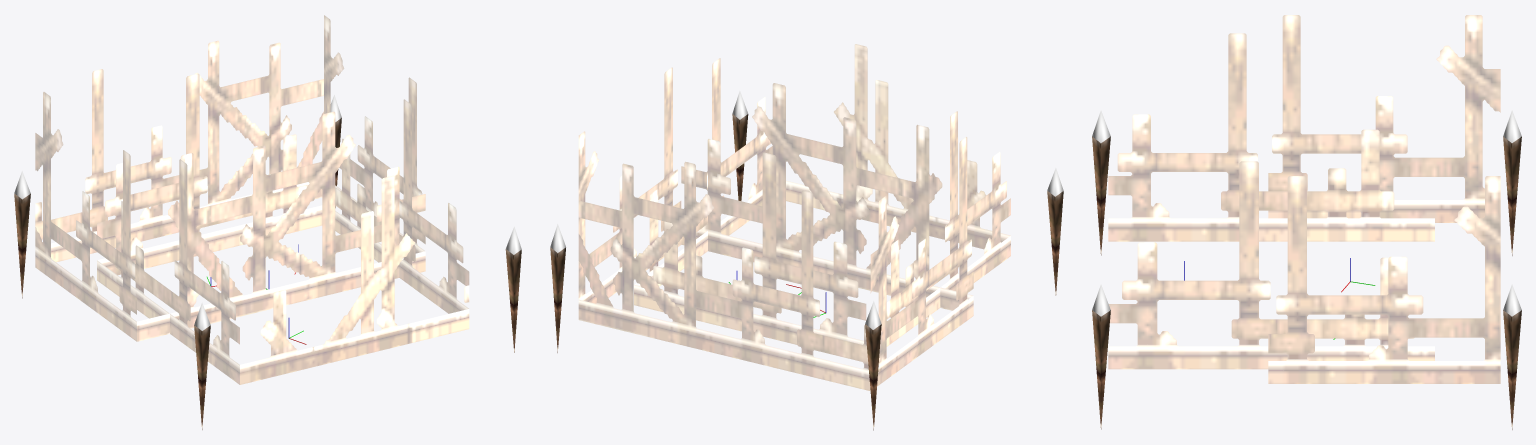
Rendered from greek-house-construction-b.glb.
3 views of the same model, side by side, from view 1: azimuth 30°, elevation 25°; view 2: azimuth 150°, elevation 25°; view 3: azimuth 270°, elevation 25° (orthographic). The views are drawn at different scales.
Visible parts, largest first — view 1: building construction small bModel; view 2: building construction small bModel; view 3: building construction small bModel.
Part boxes in pixels (x1=…): building construction small bModel: x1=14, y1=15, x2=521, y2=429; building construction small bModel: x1=550, y1=44, x2=1063, y2=430; building construction small bModel: x1=1092, y1=15, x2=1521, y2=429.
Size of the model in its own units: 4.06 by 2.6 by 4.09.
Materials: 4 (2 with a texture image).
